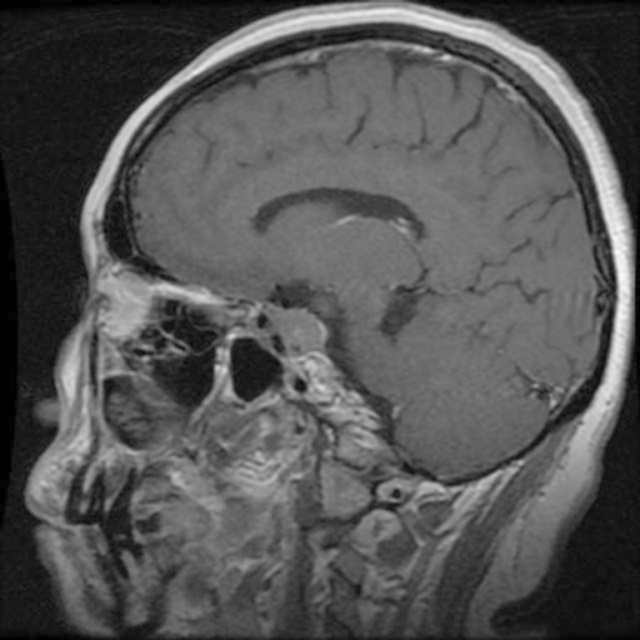no tumor: (258, 294, 324, 354)
